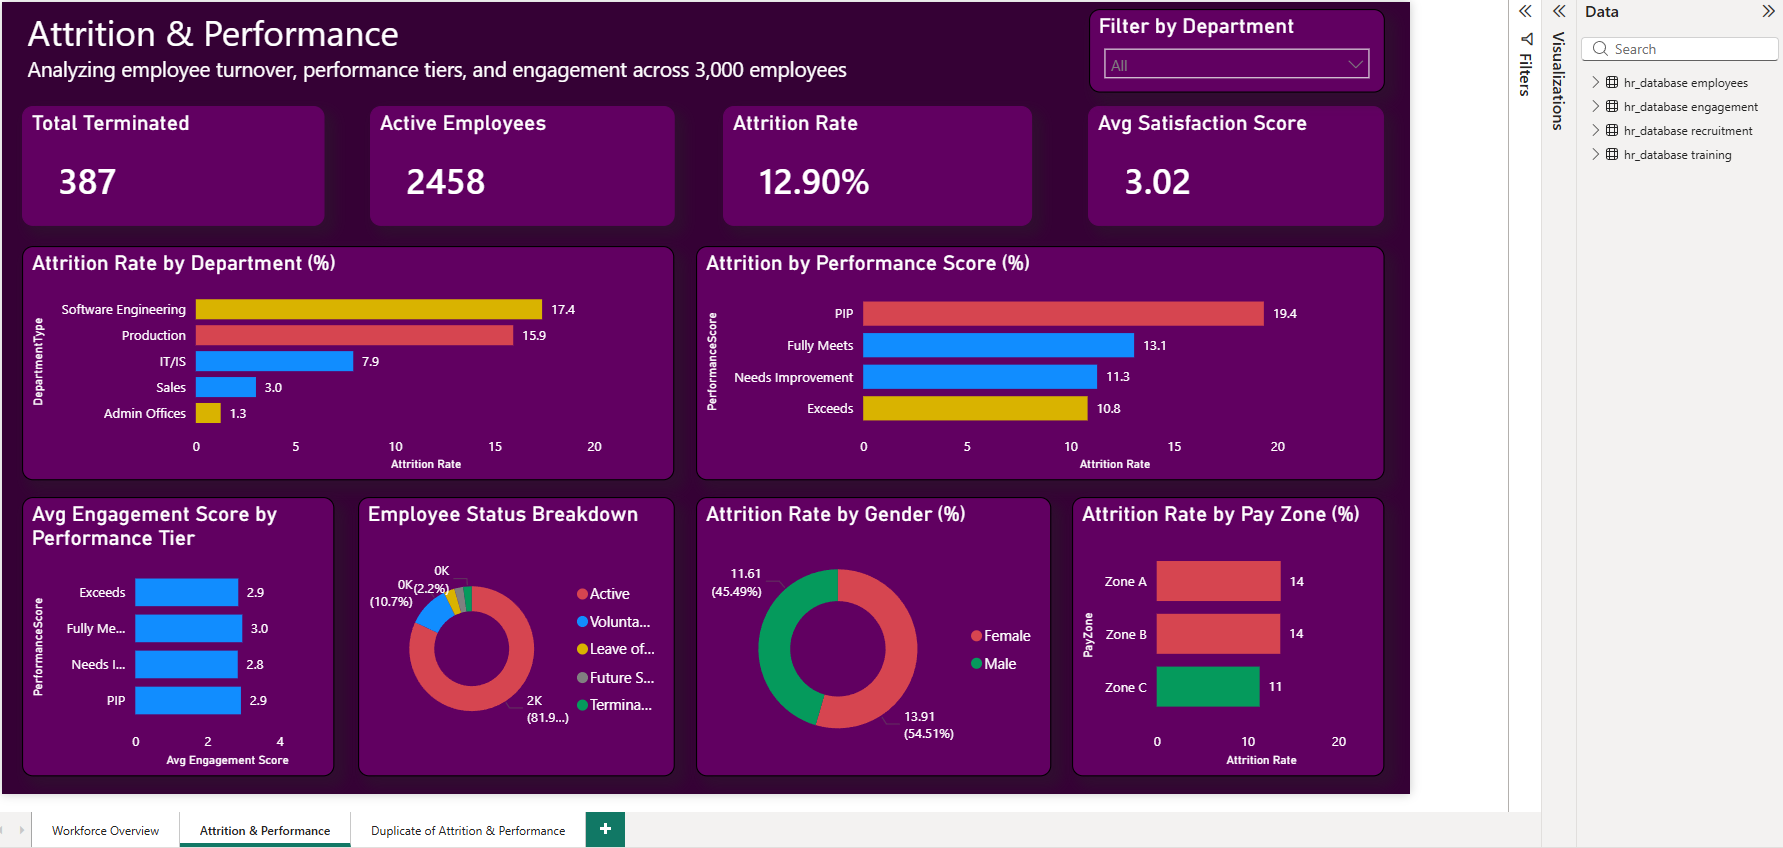

This screenshot's page, from the dashboard's own definition file:
{"tool":"powerbi","page":{"name":"Attrition & Performance","canvas":[1280,720],"ordinal":1},"visuals":[{"type":"textbox","box":[18,0,777,84],"z":0},{"type":"cardVisual","title":"Total Terminated","fields":{"Data":["hr_database employees.Total Terminated"]},"box":[17.9,94.4,274.5,109.1],"z":1000},{"type":"cardVisual","title":"Active Employees","fields":{"Data":["hr_database employees.Active Employees card"]},"box":[334.3,94.4,277.3,109.1],"z":2000},{"type":"cardVisual","title":"Attrition Rate","fields":{"Data":["hr_database employees.Attrition Rate %"]},"box":[655.2,94.4,280.9,109.1],"z":3000},{"type":"cardVisual","title":"Avg Satisfaction Score","fields":{"Data":["hr_database employees.Avg Satisfaction Score"]},"box":[987,94.4,269.1,109.1],"z":4000},{"type":"clusteredBarChart","title":"Attrition Rate by Department (%)","fields":{"Category":["hr_database employees.DepartmentType"],"Y":["hr_database employees.Attrition Rate"]},"box":[18,222,593,213],"z":5000},{"type":"clusteredBarChart","title":"Avg Engagement Score by Performance Tier","fields":{"Category":["hr_database employees.PerformanceScore"],"Y":["hr_database employees.Avg Engagement Score"]},"box":[17.9,450,284,253.8],"z":6000},{"type":"donutChart","title":"Employee Status Breakdown","fields":{"Category":["hr_database employees.EmployeeStatus"],"Y":["hr_database employees.Total Employees"]},"box":[323.6,450,287.7,253.8],"z":7000},{"type":"clusteredBarChart","title":"Attrition by Performance Score (%)","fields":{"Category":["hr_database employees.PerformanceScore"],"Y":["hr_database employees.Attrition Rate"]},"box":[631,222,626,213],"z":8000},{"type":"clusteredBarChart","title":"Attrition Rate by Pay Zone (%)","fields":{"Category":["hr_database employees.PayZone"],"Y":["hr_database employees.Attrition Rate"]},"box":[972.6,450,284,253.8],"z":9000},{"type":"slicer","title":"Filter by Department","fields":{"Values":["hr_database employees.DepartmentType"]},"box":[988,6,269,76],"z":10000},{"type":"donutChart","title":"Attrition Rate by Gender (%)","fields":{"Category":["hr_database employees.GenderCode"],"Y":["hr_database employees.Attrition Rate"]},"box":[631,450,323,254],"z":11000}]}

Visuals, with their boxes on the page's 1280x720 design canvas (x1, y1, x2, y2). These are canvas units, not pixel positions in the 1783x848 screenshot, which may show the page scaled, cropped or inside an application window:
textbox: bbox(18, 0, 795, 84)
"Total Terminated" cardVisual: bbox(18, 94, 292, 204)
"Active Employees" cardVisual: bbox(334, 94, 612, 204)
"Attrition Rate" cardVisual: bbox(655, 94, 936, 204)
"Avg Satisfaction Score" cardVisual: bbox(987, 94, 1256, 204)
"Attrition Rate by Department (%)" clusteredBarChart: bbox(18, 222, 611, 435)
"Avg Engagement Score by Performance Tier" clusteredBarChart: bbox(18, 450, 302, 704)
"Employee Status Breakdown" donutChart: bbox(324, 450, 611, 704)
"Attrition by Performance Score (%)" clusteredBarChart: bbox(631, 222, 1257, 435)
"Attrition Rate by Pay Zone (%)" clusteredBarChart: bbox(973, 450, 1257, 704)
"Filter by Department" slicer: bbox(988, 6, 1257, 82)
"Attrition Rate by Gender (%)" donutChart: bbox(631, 450, 954, 704)
